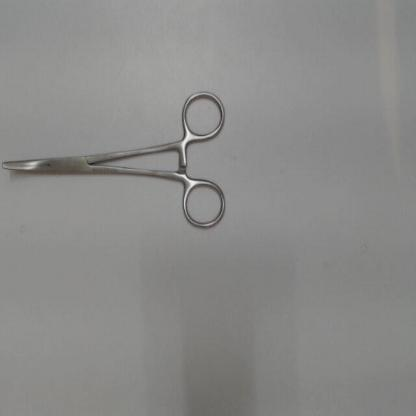Crile Artery Forceps: (1, 83, 233, 240)
